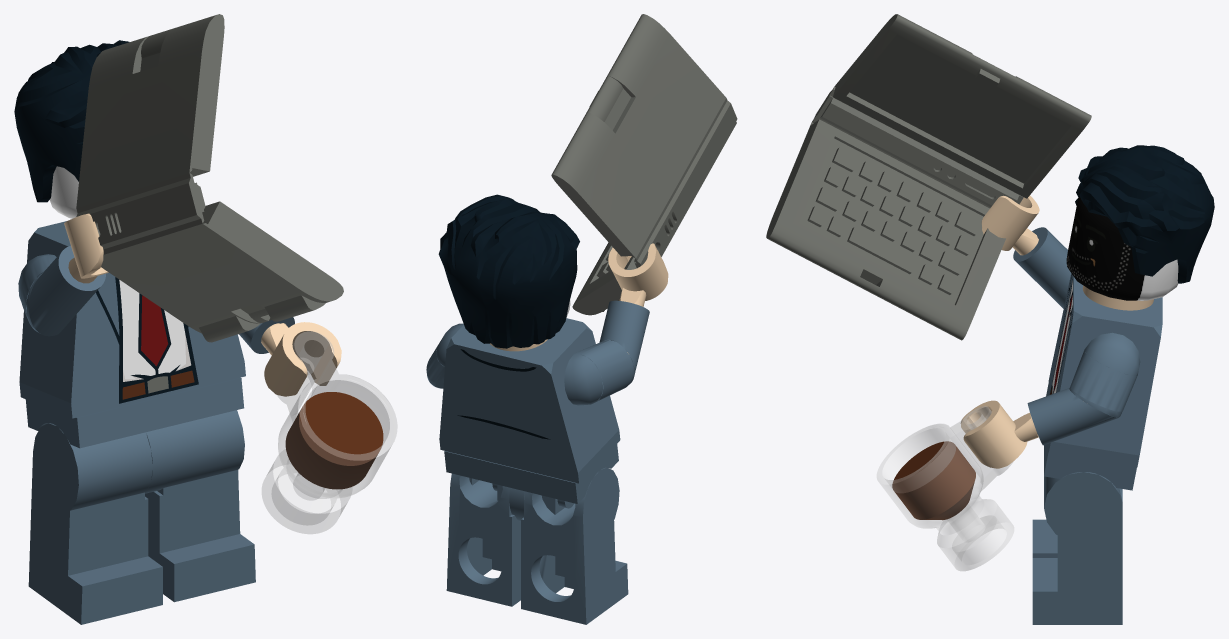
File: sig-fig-linkedin.glb
The picture shows the model from 3 angles, left to right: view 1: azimuth 30°, elevation 25°; view 2: azimuth 150°, elevation 25°; view 3: azimuth 270°, elevation 25°; orthographic projection. The views are drawn at different scales.
Visible parts, largest first — view 1: 62698-f2.dat, 3816c.dat, 973pb1415.dat, 68495p03.dat, 3817c.dat, 23186.dat, 3815b.dat, 3820.dat.001, 3818.dat, 3820.dat, bl_3626cpb1966.dat, 3819.dat; view 2: 62698-f2.dat, 973pb1415.dat, 23186.dat, 3816c.dat, 3817c.dat, 3818.dat, 3815b.dat, 3820.dat, 3819.dat; view 3: 62698-f2.dat, 23186.dat, 68495p03.dat, 3817c.dat, 973pb1415.dat, 3819.dat, bl_3626cpb1966.dat, 3820.dat.001, 3818.dat, 3820.dat, 3815b.dat, 3816c.dat.
Part boxes in pixels (left/top/right/bottom): 62698-f2.dat: left=76, top=14, right=343, bottom=342; 3816c.dat: left=28, top=423, right=162, bottom=624; 973pb1415.dat: left=19, top=221, right=245, bottom=418; 68495p03.dat: left=262, top=331, right=397, bottom=533; 3817c.dat: left=145, top=410, right=255, bottom=602; 23186.dat: left=14, top=40, right=129, bottom=202; 3815b.dat: left=25, top=377, right=244, bottom=493; 3820.dat.001: left=261, top=322, right=341, bottom=396; 3818.dat: left=18, top=245, right=105, bottom=336; 3820.dat: left=64, top=213, right=108, bottom=283; bl_3626cpb1966.dat: left=49, top=166, right=78, bottom=218; 3819.dat: left=239, top=317, right=294, bottom=353; 62698-f2.dat: left=551, top=14, right=737, bottom=315; 973pb1415.dat: left=439, top=318, right=620, bottom=483; 23186.dat: left=438, top=194, right=579, bottom=348; 3816c.dat: left=521, top=467, right=628, bottom=624; 3817c.dat: left=446, top=473, right=520, bottom=606; 3818.dat: left=564, top=300, right=649, bottom=405; 3815b.dat: left=444, top=444, right=618, bottom=521; 3820.dat: left=608, top=243, right=668, bottom=353; 3819.dat: left=426, top=323, right=463, bottom=388; 62698-f2.dat: left=766, top=14, right=1091, bottom=340; 23186.dat: left=1075, top=145, right=1214, bottom=283; 68495p03.dat: left=877, top=406, right=1013, bottom=570; 3817c.dat: left=1032, top=472, right=1122, bottom=624; 973pb1415.dat: left=1048, top=273, right=1162, bottom=467; 3819.dat: left=1027, top=332, right=1140, bottom=445; bl_3626cpb1966.dat: left=1066, top=196, right=1178, bottom=310; 3820.dat.001: left=960, top=400, right=1038, bottom=468; 3818.dat: left=1013, top=227, right=1071, bottom=308; 3820.dat: left=981, top=195, right=1039, bottom=255; 3815b.dat: left=1044, top=384, right=1136, bottom=490; 3816c.dat: left=1032, top=519, right=1057, bottom=557.
Size of the model in its own units: 0.5945 by 1.36 by 0.9857.
Materials: 10 (1 with a texture image).
